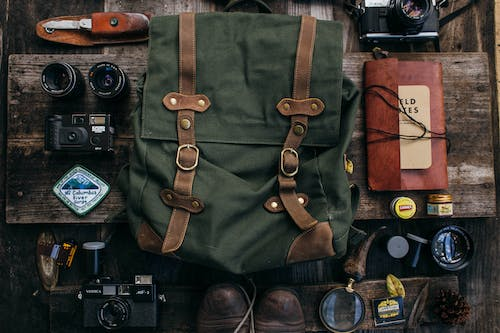knife: (41, 17, 93, 32)
